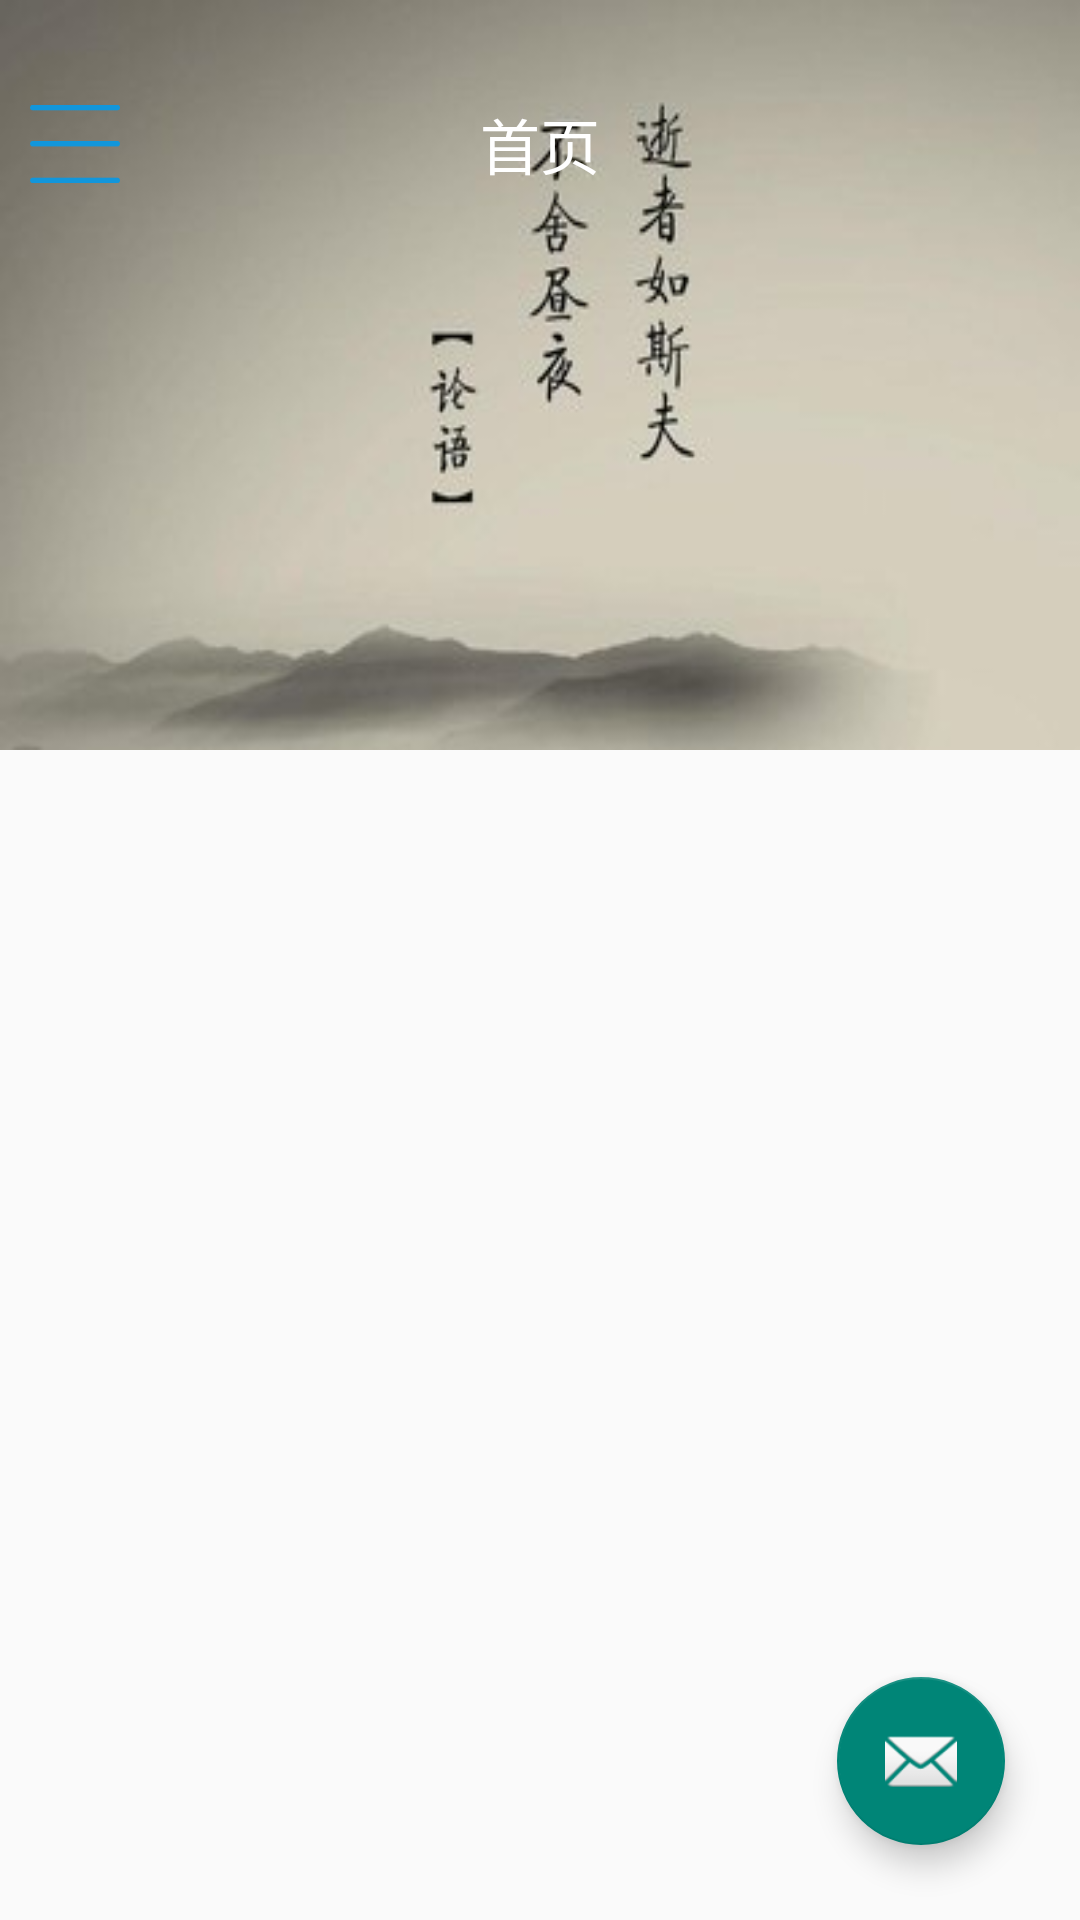

Icons on this 1080px x 1920px Android screen, each with its box as (x1, y1, x2, y2):
email: (837, 1677, 1005, 1845)
open left: (30, 105, 120, 183)
